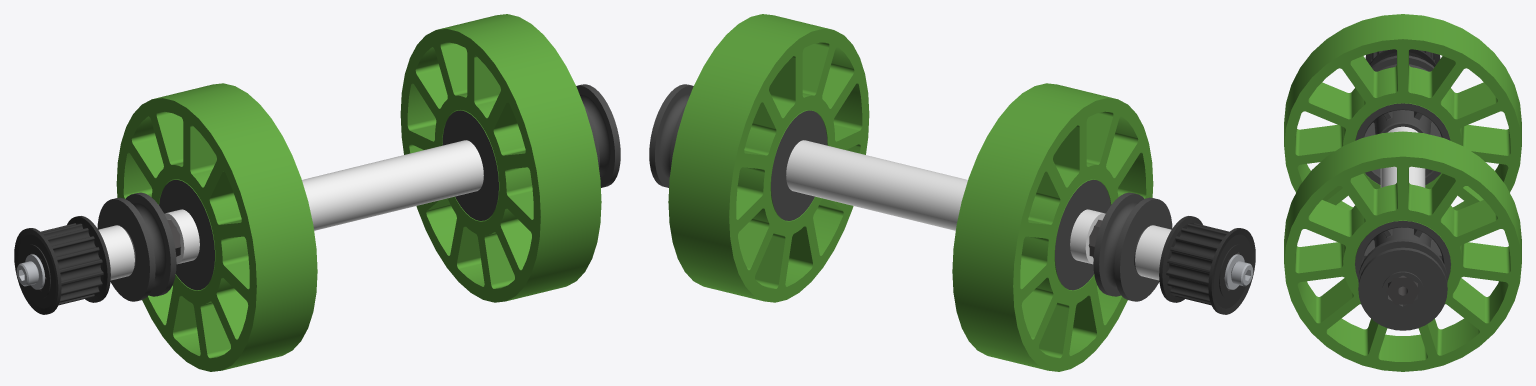
3 renders of one model, left to right at view 1: azimuth 30°, elevation 25°; view 2: azimuth 150°, elevation 25°; view 3: azimuth 270°, elevation 25°, orthographic. The views are drawn at different scales.
Parts seen in each view (by area): view 1: 4" OD 1/2" Hex Bore Compliant Wheel 35A (am-3480) (×2), Roller1, 1/4" Wide 1/2" Hex Bore Single Polycord Pulley (WCP-0096) (×2), 18t 15mm Wide 1/2" Hex Bore Double Flange 5mm HTD Aluminum P, 12mm M5 SHCS; view 2: 4" OD 1/2" Hex Bore Compliant Wheel 35A (am-3480) (×2), Roller1, 1/4" Wide 1/2" Hex Bore Single Polycord Pulley (WCP-0096) (×2), 18t 15mm Wide 1/2" Hex Bore Double Flange 5mm HTD Aluminum P, 12mm M5 SHCS; view 3: 4" OD 1/2" Hex Bore Compliant Wheel 35A (am-3480) (×2), 1/4" Wide 1/2" Hex Bore Single Polycord Pulley (WCP-0096) (×2), Roller1, 18t 15mm Wide 1/2" Hex Bore Double Flange 5mm HTD Aluminum P.
Boxes of the visible parts, <box> form: 4" OD 1/2" Hex Bore Compliant Wheel 35A (am-3480) (×2): <box>116,14,601,371</box>; Roller1: <box>30,140,483,290</box>; 1/4" Wide 1/2" Hex Bore Single Polycord Pulley (WCP-0096) (×2): <box>97,84,620,301</box>; 18t 15mm Wide 1/2" Hex Bore Double Flange 5mm HTD Aluminum P: <box>14,216,110,314</box>; 12mm M5 SHCS: <box>16,254,45,289</box>; 4" OD 1/2" Hex Bore Compliant Wheel 35A (am-3480) (×2): <box>668,14,1153,371</box>; Roller1: <box>786,140,1239,290</box>; 1/4" Wide 1/2" Hex Bore Single Polycord Pulley (WCP-0096) (×2): <box>649,84,1172,301</box>; 18t 15mm Wide 1/2" Hex Bore Double Flange 5mm HTD Aluminum P: <box>1159,216,1255,314</box>; 12mm M5 SHCS: <box>1224,254,1253,289</box>; 4" OD 1/2" Hex Bore Compliant Wheel 35A (am-3480) (×2): <box>1284,14,1521,371</box>; 1/4" Wide 1/2" Hex Bore Single Polycord Pulley (WCP-0096) (×2): <box>1358,55,1447,330</box>; Roller1: <box>1380,126,1425,304</box>; 18t 15mm Wide 1/2" Hex Bore Double Flange 5mm HTD Aluminum P: <box>1365,49,1440,66</box>.
Bounding box in the file's own units: 0.2404 × 0.1016 × 0.1016.
